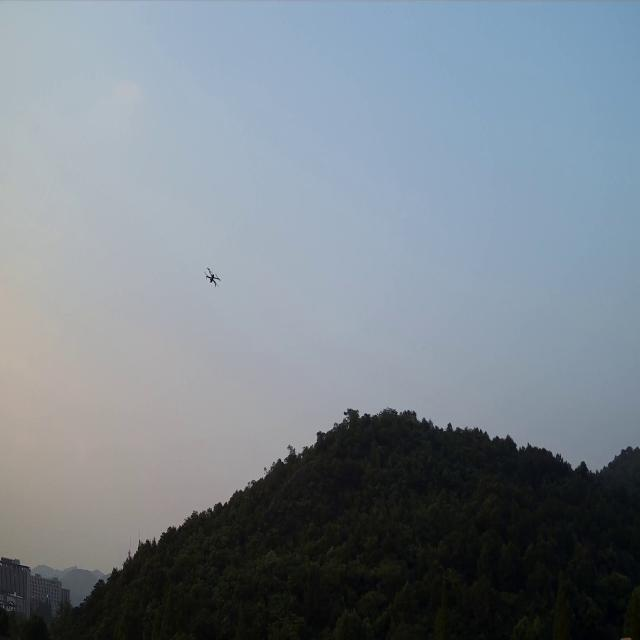UAV: (204, 264, 222, 288)
